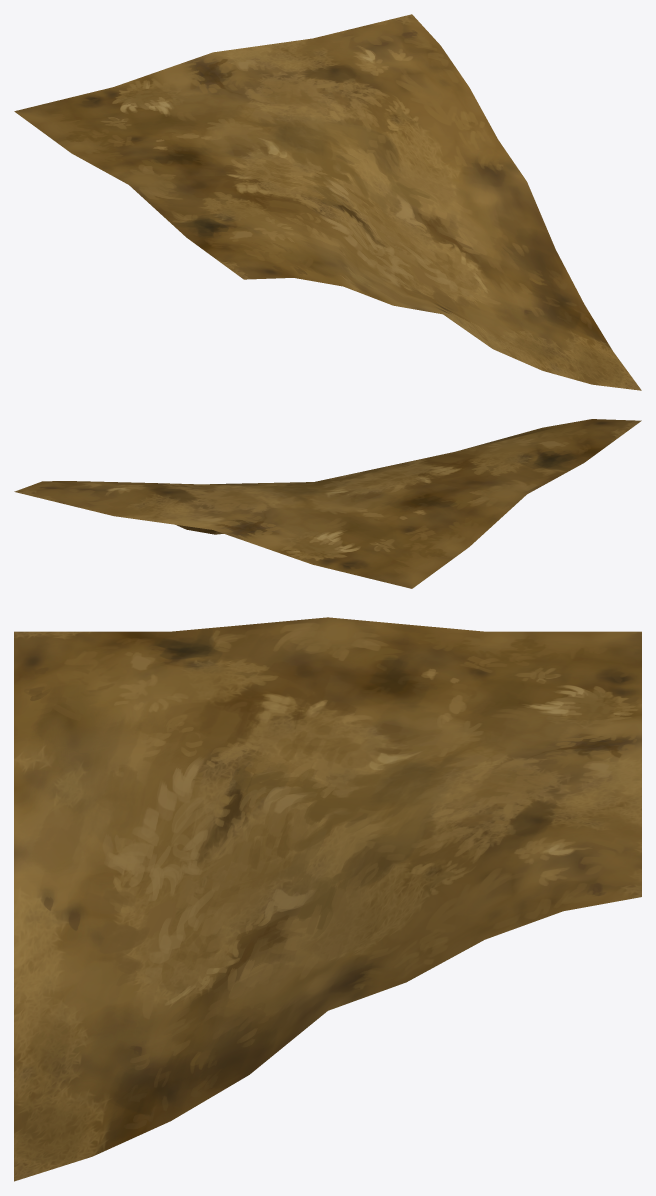
Rendered from Slope_Incline_008.fbx.
3 renders of one model, top to bottom at view 1: azimuth 30°, elevation 25°; view 2: azimuth 150°, elevation 25°; view 3: azimuth 270°, elevation 25°, orthographic. The views are drawn at different scales.
Parts seen in each view (by area): view 1: Slope_incline_008; view 2: Slope_incline_008; view 3: Slope_incline_008.
Part boxes in pixels (x1,y1,x2,y2): Slope_incline_008: [14, 14, 641, 390]; Slope_incline_008: [14, 419, 641, 588]; Slope_incline_008: [14, 617, 641, 1181].
Bounding box in the file's own units: 10 × 5.25 × 10.
1 material, 1 textured.
